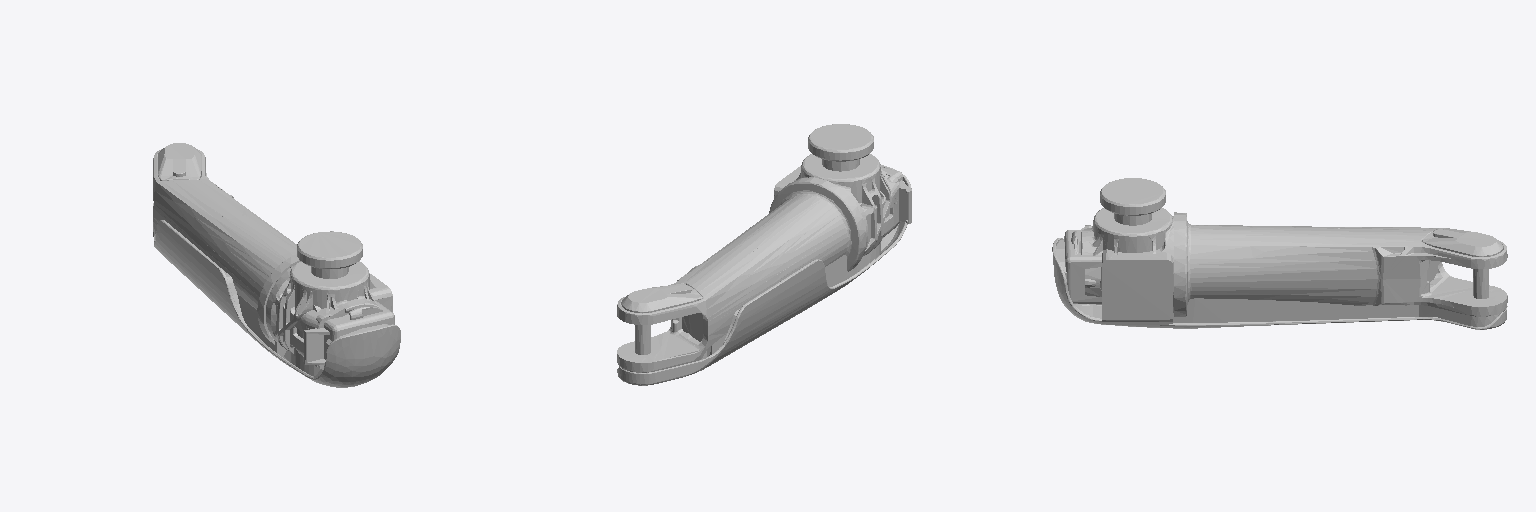
File: rear_right_upper_leg.obj
3 renders of one model, left to right at view 1: azimuth 30°, elevation 25°; view 2: azimuth 150°, elevation 25°; view 3: azimuth 270°, elevation 25°, orthographic.
Parts seen in each view (by area): view 1: rear_right_upper_leg_02-042137-001-A00_TOP_LEVEL_DEFEATURED_-_NO; view 2: rear_right_upper_leg_02-042137-001-A00_TOP_LEVEL_DEFEATURED_-_NO; view 3: rear_right_upper_leg_02-042137-001-A00_TOP_LEVEL_DEFEATURED_-_NO.
Part boxes in pixels (bbox=[...]): rear_right_upper_leg_02-042137-001-A00_TOP_LEVEL_DEFEATURED_-_NO: bbox=[153, 143, 400, 387]; rear_right_upper_leg_02-042137-001-A00_TOP_LEVEL_DEFEATURED_-_NO: bbox=[617, 124, 911, 385]; rear_right_upper_leg_02-042137-001-A00_TOP_LEVEL_DEFEATURED_-_NO: bbox=[1052, 178, 1507, 329].
Size of the model in its own units: 0.1011 by 0.1322 by 0.4185.